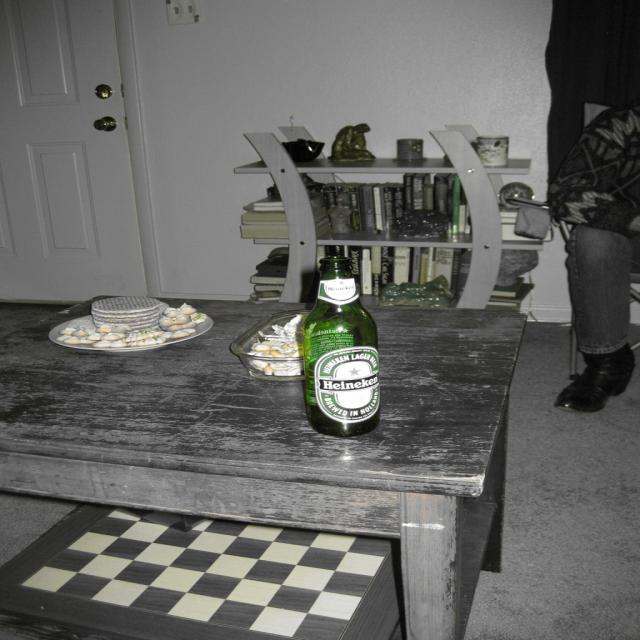heineken: (315, 348, 381, 424)
